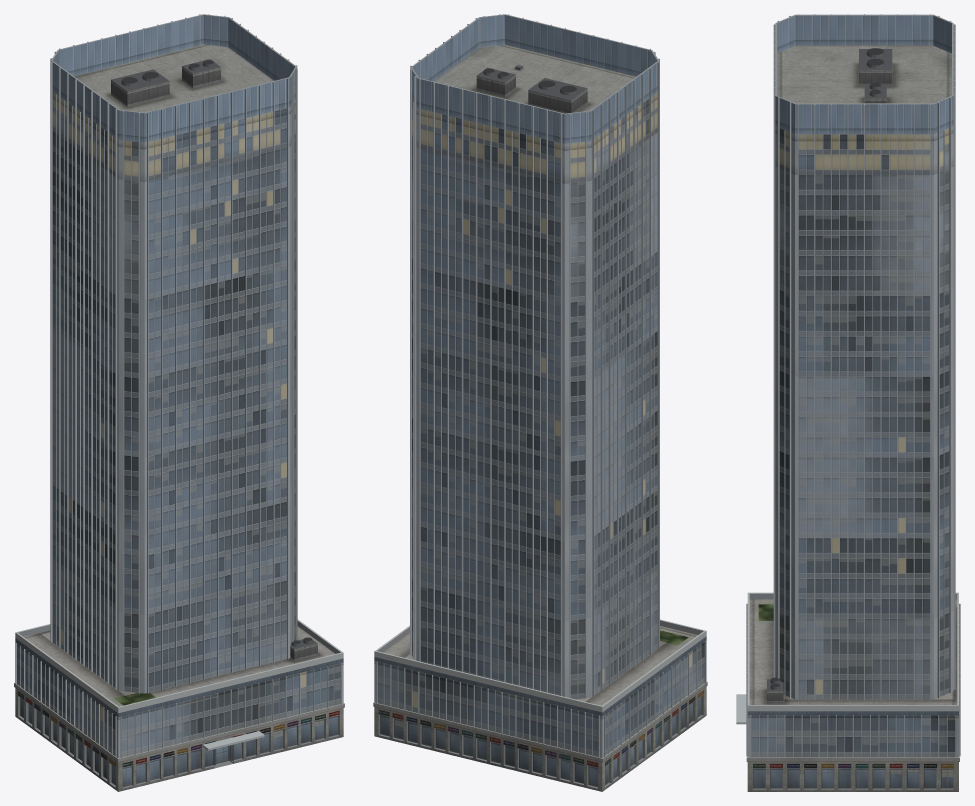
The model's file is seattle_glasstower_a.glb.
The picture shows the model from 3 angles, left to right: view 1: azimuth 30°, elevation 25°; view 2: azimuth 150°, elevation 25°; view 3: azimuth 270°, elevation 25°; orthographic projection. The views are drawn at different scales.
Visible parts, largest first — view 1: seattle_glasstower_a; view 2: seattle_glasstower_a; view 3: seattle_glasstower_a.
Part boxes in pixels (x1=…): seattle_glasstower_a: x1=14, y1=14, x2=344, y2=791; seattle_glasstower_a: x1=373, y1=14, x2=707, y2=791; seattle_glasstower_a: x1=736, y1=14, x2=960, y2=791.
Bounding box in the file's own units: 48.47 × 134 × 40.24.
1 material, 1 textured.
